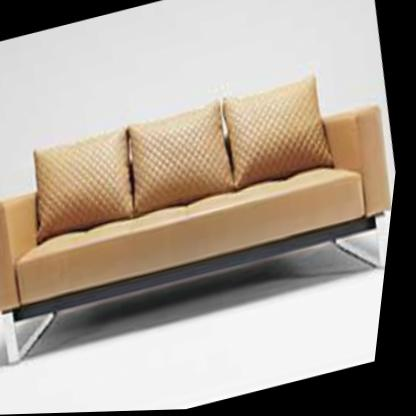Sofa: (0, 63, 410, 371)
